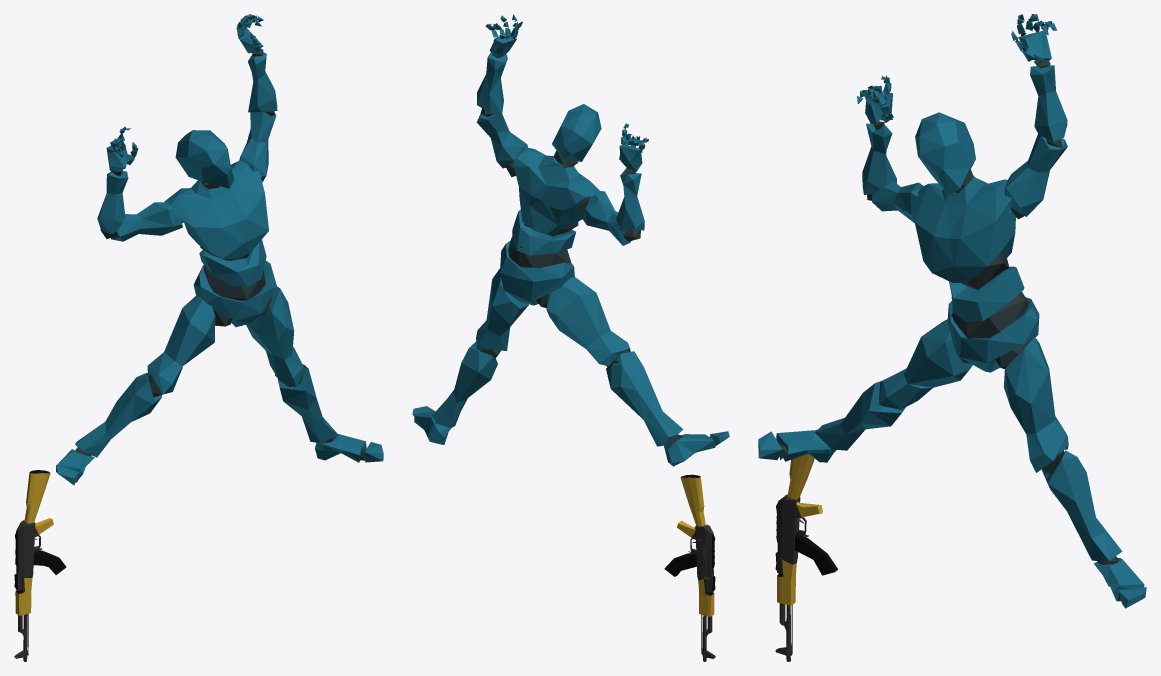
The model's file is EnemyDying_000132.obj.
3 views of the same model, side by side, from view 1: azimuth 30°, elevation 25°; view 2: azimuth 150°, elevation 25°; view 3: azimuth 330°, elevation 25° (orthographic). The views are drawn at different scales.
Parts seen in each view (by area): view 1: Alpha_Surface, AK-47_Cube, Alpha_Joints; view 2: Alpha_Surface, AK-47_Cube, Alpha_Joints; view 3: Alpha_Surface, AK-47_Cube, Alpha_Joints.
Part boxes in pixels (bbox=[...]): Alpha_Surface: bbox=[56, 14, 383, 485]; AK-47_Cube: bbox=[14, 470, 66, 661]; Alpha_Joints: bbox=[75, 15, 366, 482]; Alpha_Surface: bbox=[412, 14, 729, 466]; AK-47_Cube: bbox=[664, 474, 715, 661]; Alpha_Joints: bbox=[431, 20, 713, 447]; Alpha_Surface: bbox=[758, 14, 1146, 608]; AK-47_Cube: bbox=[775, 454, 837, 661]; Alpha_Joints: bbox=[779, 14, 1122, 601].
Size of the model in its own units: 316 by 538 by 70.4.
